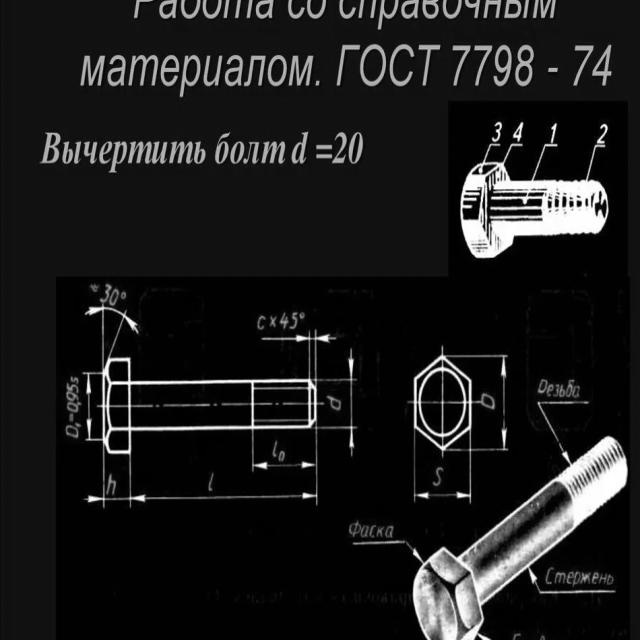marking_line: (128, 469, 320, 504), (472, 356, 511, 451), (319, 349, 356, 449), (259, 330, 338, 376), (412, 450, 473, 503), (87, 306, 150, 356), (81, 453, 131, 508), (251, 431, 318, 470), (82, 370, 100, 443)
numeric: (388, 41, 417, 92), (334, 40, 358, 86), (360, 42, 385, 86), (593, 42, 615, 90), (179, 55, 203, 99), (418, 44, 443, 86), (129, 54, 156, 88), (573, 44, 594, 87), (451, 45, 472, 87), (514, 46, 536, 86), (473, 46, 492, 87), (82, 53, 104, 87), (41, 128, 61, 165), (290, 55, 313, 87), (224, 56, 244, 92), (244, 54, 265, 88), (495, 43, 511, 87), (158, 55, 179, 87), (107, 54, 126, 88), (292, 128, 309, 165), (202, 54, 221, 87), (261, 142, 285, 168), (268, 55, 286, 86), (129, 142, 151, 166), (214, 129, 229, 164), (110, 140, 125, 174), (171, 141, 192, 165), (348, 132, 363, 165), (333, 131, 346, 165), (83, 140, 98, 166), (245, 140, 259, 167), (480, 390, 495, 413), (153, 142, 168, 164), (230, 140, 243, 165), (194, 141, 208, 164), (512, 121, 527, 142), (99, 141, 112, 165), (597, 122, 609, 145), (62, 141, 74, 164), (327, 395, 343, 412), (99, 284, 112, 304), (433, 466, 444, 488), (73, 141, 83, 165), (63, 425, 79, 439), (548, 123, 559, 143), (492, 122, 502, 141), (109, 289, 120, 305), (270, 438, 279, 457), (279, 313, 289, 330), (67, 403, 81, 415), (207, 472, 215, 492), (66, 393, 81, 403), (257, 314, 266, 330), (66, 382, 79, 393), (290, 313, 298, 330), (278, 451, 286, 462)
special_symbol: (545, 64, 561, 74), (88, 280, 98, 294), (269, 316, 277, 330), (299, 310, 305, 321), (121, 291, 128, 300), (315, 80, 320, 89)
